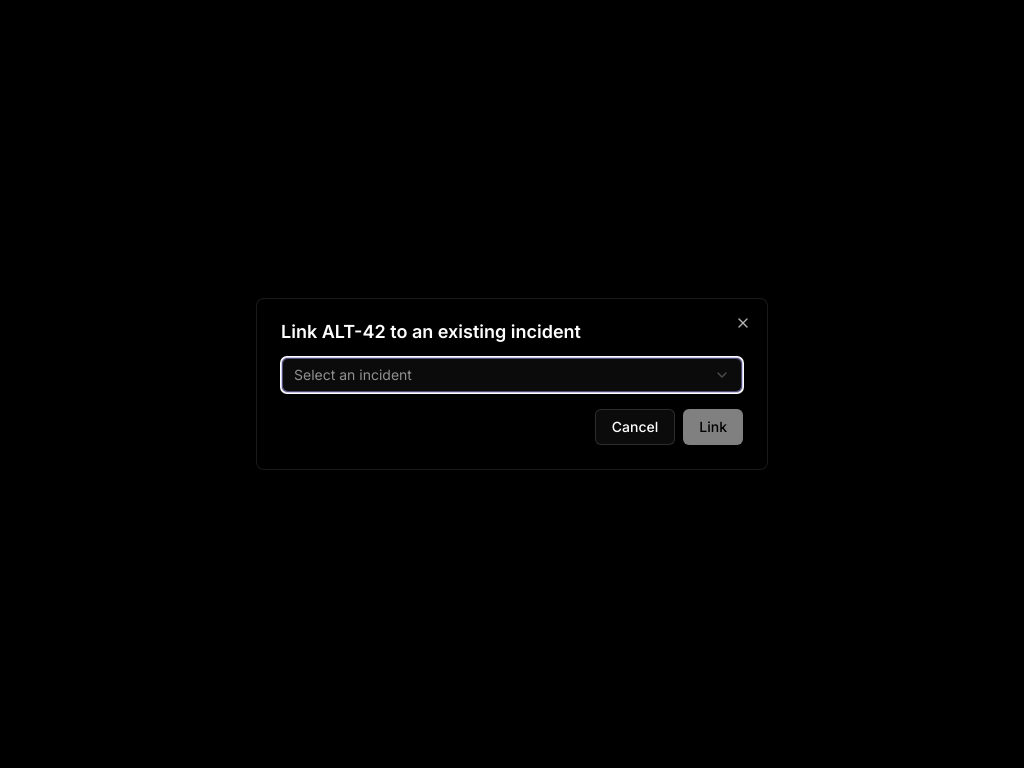
it: LinkIncidentDialog › shows the alert displayId in the title and lists incident options
expect the heading "Link ALT-42 to an existing incident" is shown: met, box [281,321,581,342]
Click the dropdown at coordinates (353, 374), box [281,357,743,393]
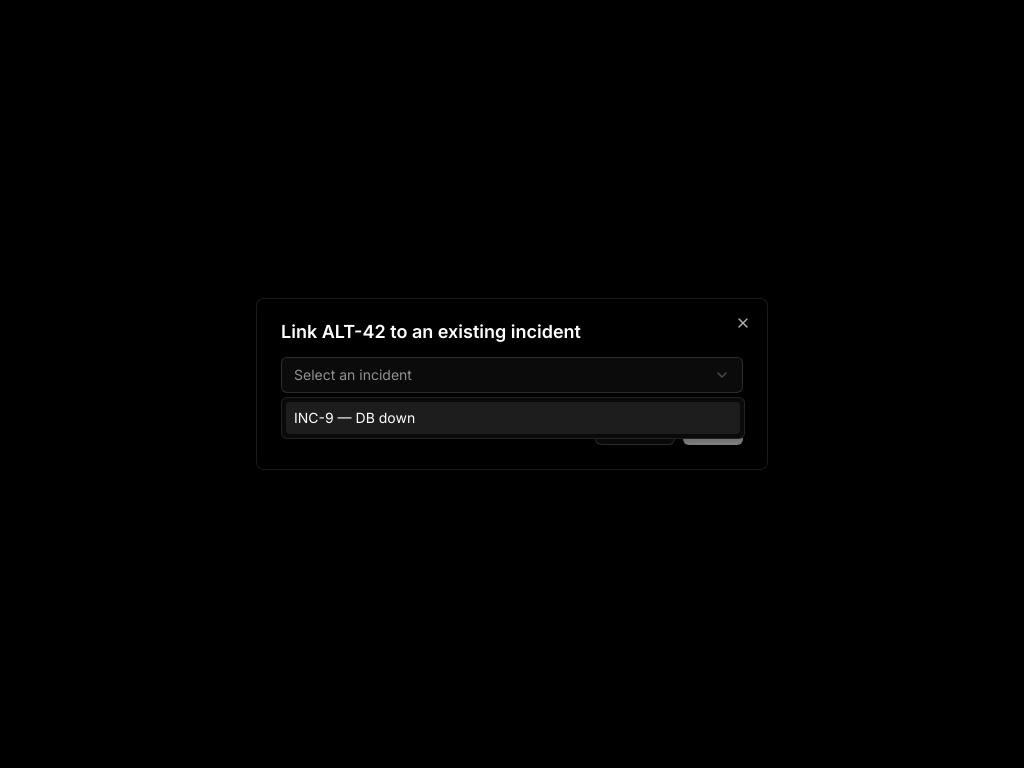
expect the text "INC-9 — DB down" is shown: met, box [294,408,415,428]
